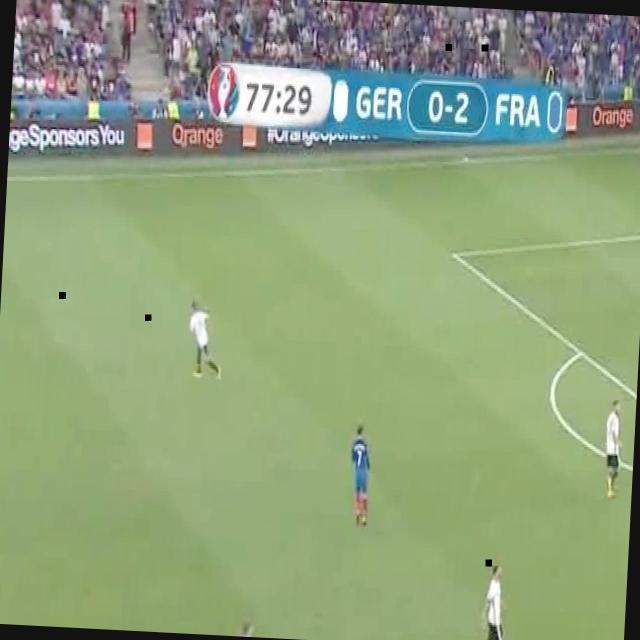player-white: (186, 299, 224, 381), (481, 563, 519, 640), (348, 421, 374, 527), (602, 399, 624, 501), (231, 616, 263, 637)
